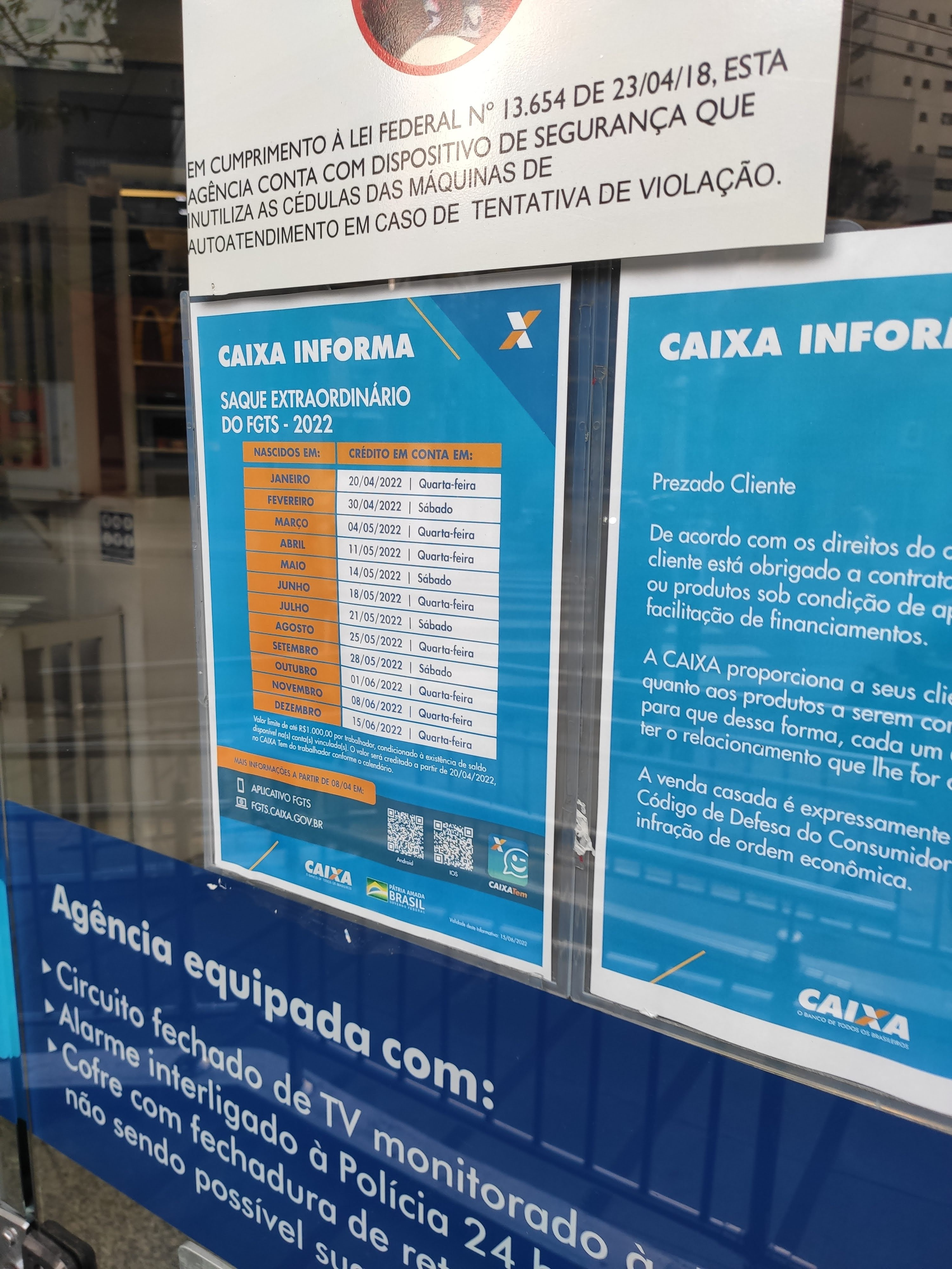QR-CODE: (433, 820, 473, 873), (387, 808, 424, 860)
